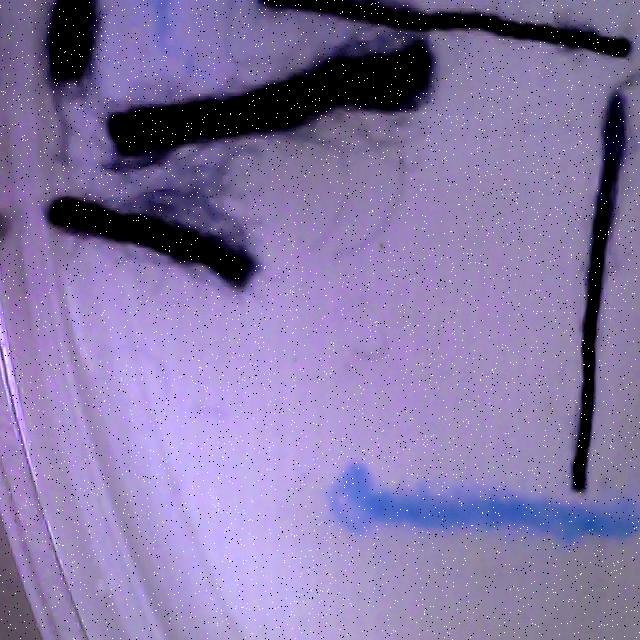fibers: (102, 35, 442, 163), (326, 462, 640, 570), (561, 89, 634, 492), (43, 185, 261, 290), (260, 0, 635, 56), (47, 0, 98, 81)
